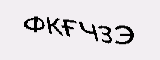З: (98, 24, 112, 45)
К: (45, 15, 62, 37)
Ф: (21, 16, 44, 33)
Ч: (77, 21, 100, 42)
Э: (114, 25, 135, 46)
Ғ: (59, 19, 77, 38)
